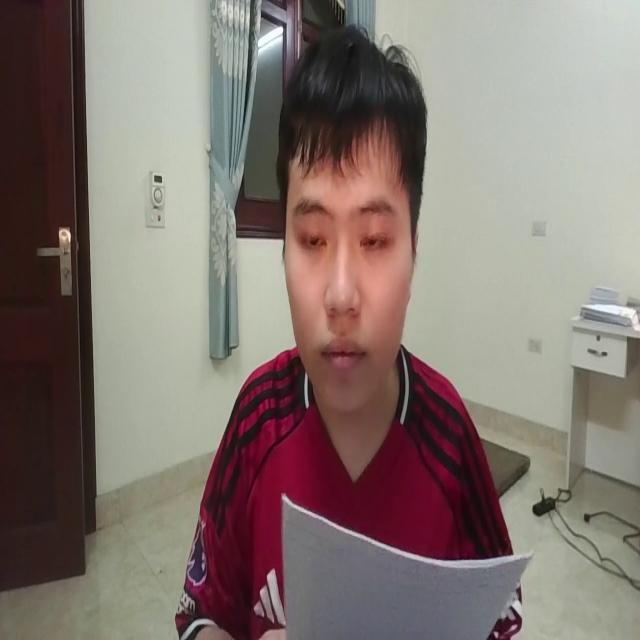book: (276, 484, 534, 640)
student: (164, 28, 525, 640)
